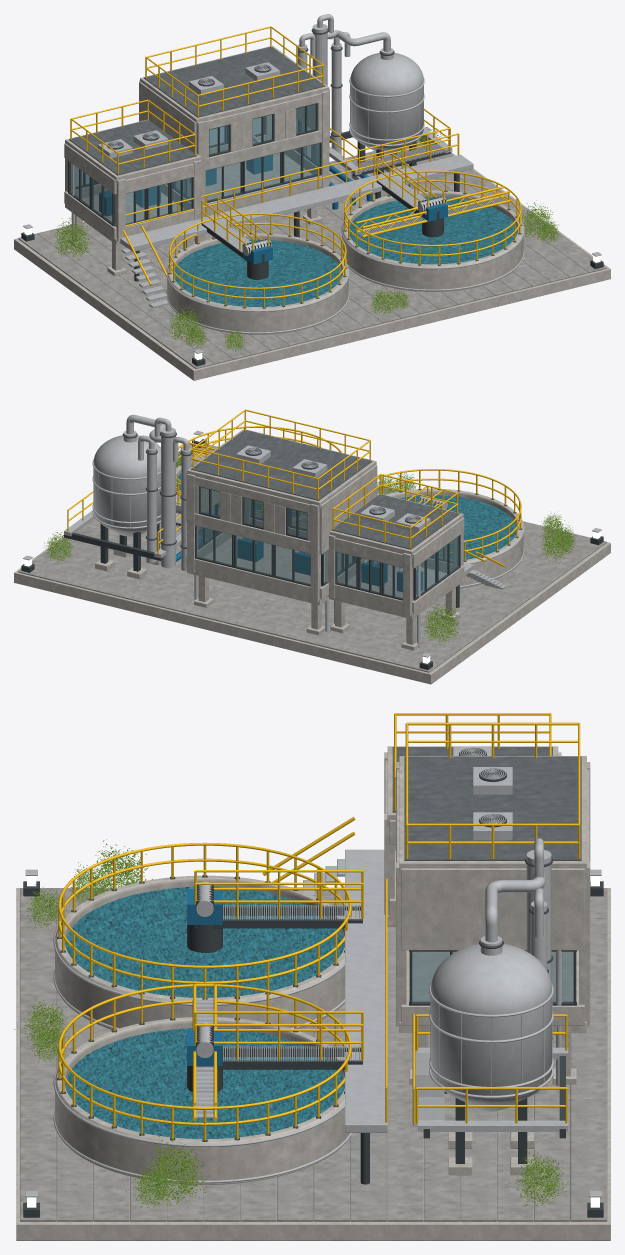
The model's file is planta_tratamiento.fbx.
3 renders of one model, top to bottom at view 1: azimuth 30°, elevation 25°; view 2: azimuth 150°, elevation 25°; view 3: azimuth 270°, elevation 25°, orthographic. The views are drawn at different scales.
Visible parts, largest first — view 1: Solar · Loseta mineral, Nave de tratamiento · Prefabricado caliza, Solar · Prefabricado caliza, Laboratorio lateral · Prefabricado caliza, Clarificador 1 · Agua de clarificación, Decantador de proceso · Inox cepillado, Clarificador 2 · Agua de clarificación, Clarificador 1 · Prefabricado caliza, Galería de enlace · Inox cepillado, Clarificador 2 · Prefabricado caliza, Nave de tratamiento · Membrana bituminosa, Colectores de proceso · Inox cepillado (+25 smaller); view 2: Solar · Loseta mineral, Nave de tratamiento · Prefabricado caliza, Laboratorio lateral · Prefabricado caliza, Solar · Prefabricado caliza, Nave de tratamiento · Membrana bituminosa, Colectores de proceso · Inox cepillado, Decantador de proceso · Inox cepillado, Nave de tratamiento · Cristal de control, Laboratorio lateral · Cristal de control, Laboratorio lateral · Membrana bituminosa, Clarificador 1 · Agua de clarificación, Nave de tratamiento · Perfilería antracita (+18 smaller); view 3: Solar · Loseta mineral, Nave de tratamiento · Prefabricado caliza, Decantador de proceso · Inox cepillado, Clarificador 1 · Agua de clarificación, Clarificador 2 · Agua de clarificación, Solar · Prefabricado caliza, Nave de tratamiento · Membrana bituminosa, Clarificador 2 · Prefabricado caliza, Galería de enlace · Inox cepillado, Clarificador 1 · Prefabricado caliza, Clarificador 1 · Amarillo de pasarelas, Clarificador 2 · Amarillo de pasarelas (+29 smaller).
Part boxes in pixels (x1=…): Solar · Loseta mineral: x1=18, y1=140, x2=606, y2=368; Nave de tratamiento · Prefabricado caliza: x1=139, y1=45, x2=329, y2=244; Solar · Prefabricado caliza: x1=14, y1=152, x2=610, y2=380; Laboratorio lateral · Prefabricado caliza: x1=64, y1=120, x2=201, y2=276; Clarificador 1 · Agua de clarificación: x1=174, y1=239, x2=342, y2=306; Decantador de proceso · Inox cepillado: x1=349, y1=48, x2=424, y2=154; Clarificador 2 · Agua de clarificación: x1=349, y1=197, x2=517, y2=264; Clarificador 1 · Prefabricado caliza: x1=167, y1=233, x2=348, y2=334; Galería de enlace · Inox cepillado: x1=119, y1=154, x2=473, y2=307; Clarificador 2 · Prefabricado caliza: x1=342, y1=190, x2=523, y2=291; Nave de tratamiento · Membrana bituminosa: x1=144, y1=47, x2=325, y2=117; Colectores de proceso · Inox cepillado: x1=297, y1=14, x2=452, y2=175; Solar · Loseta mineral: x1=18, y1=444, x2=606, y2=672; Nave de tratamiento · Prefabricado caliza: x1=186, y1=429, x2=377, y2=635; Laboratorio lateral · Prefabricado caliza: x1=327, y1=493, x2=464, y2=650; Solar · Prefabricado caliza: x1=14, y1=444, x2=610, y2=684; Nave de tratamiento · Membrana bituminosa: x1=191, y1=430, x2=372, y2=500; Colectores de proceso · Inox cepillado: x1=64, y1=414, x2=201, y2=571; Decantador de proceso · Inox cepillado: x1=92, y1=430, x2=160, y2=536; Nave de tratamiento · Cristal de control: x1=196, y1=487, x2=326, y2=584; Laboratorio lateral · Cristal de control: x1=336, y1=536, x2=458, y2=598; Laboratorio lateral · Membrana bituminosa: x1=331, y1=494, x2=459, y2=549; Clarificador 1 · Agua de clarificación: x1=400, y1=495, x2=516, y2=559; Nave de tratamiento · Perfilería antracita: x1=195, y1=448, x2=351, y2=586; Solar · Loseta mineral: x1=20, y1=888, x2=607, y2=1221; Nave de tratamiento · Prefabricado caliza: x1=396, y1=756, x2=590, y2=1084; Decantador de proceso · Inox cepillado: x1=429, y1=936, x2=553, y2=1111; Clarificador 1 · Agua de clarificación: x1=65, y1=886, x2=344, y2=997; Clarificador 2 · Agua de clarificación: x1=65, y1=1028, x2=344, y2=1138; Solar · Prefabricado caliza: x1=16, y1=888, x2=610, y2=1240; Nave de tratamiento · Membrana bituminosa: x1=404, y1=756, x2=581, y2=860; Clarificador 2 · Prefabricado caliza: x1=55, y1=1017, x2=349, y2=1184; Galería de enlace · Inox cepillado: x1=292, y1=849, x2=387, y2=1132; Clarificador 1 · Prefabricado caliza: x1=55, y1=875, x2=344, y2=1029; Clarificador 1 · Amarillo de pasarelas: x1=58, y1=842, x2=363, y2=990; Clarificador 2 · Amarillo de pasarelas: x1=58, y1=984, x2=363, y2=1140.
Size of the model in its own units: 15.4 by 6.33 by 11.54.
Materials: 14 (5 with a texture image).
